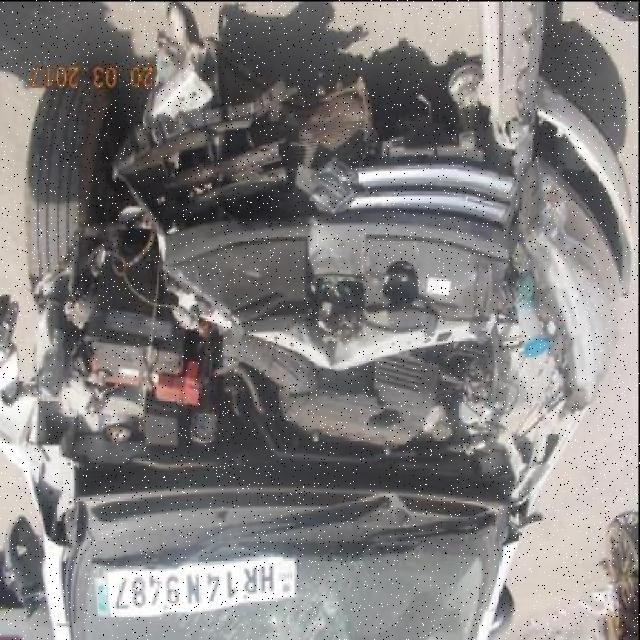damage: (1, 79, 638, 439), (179, 554, 377, 640)
